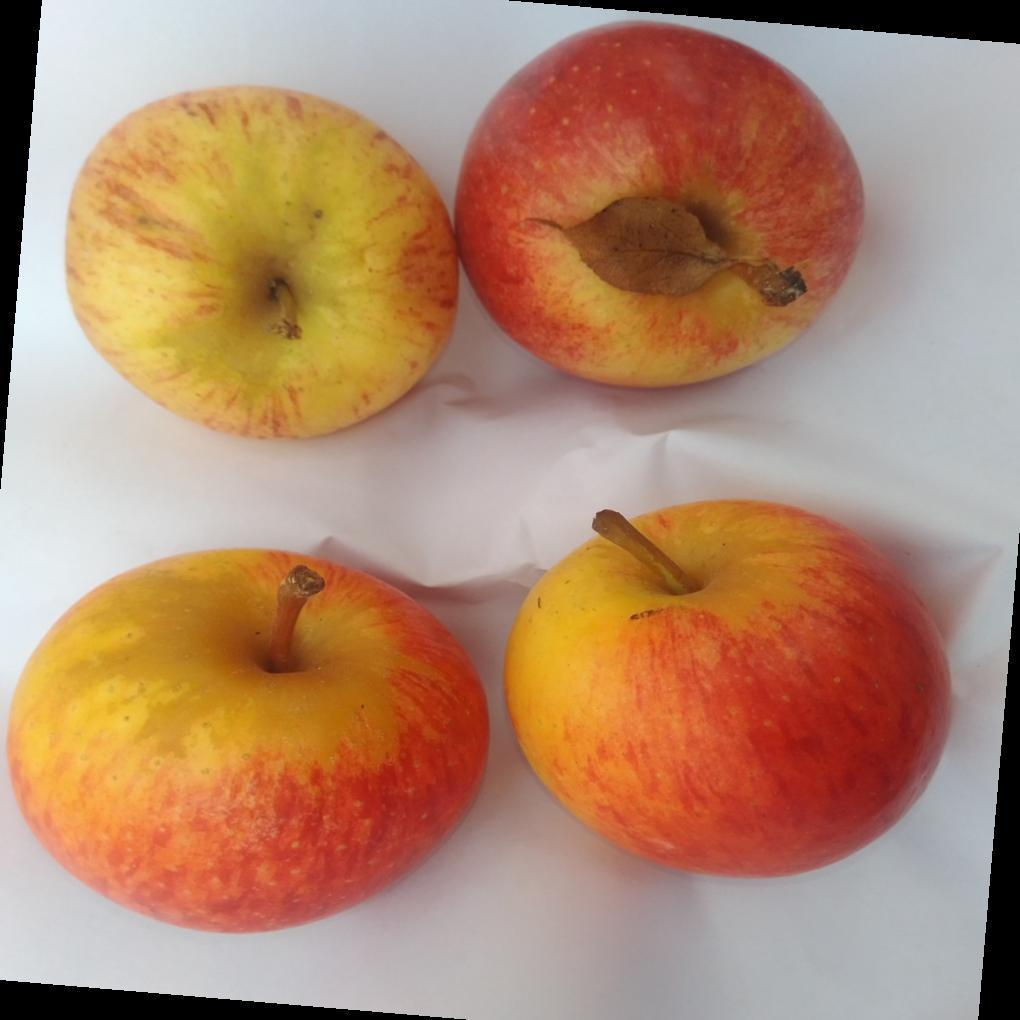FreshGuava: (62, 19, 865, 443), (2, 548, 492, 938), (500, 500, 952, 883)
